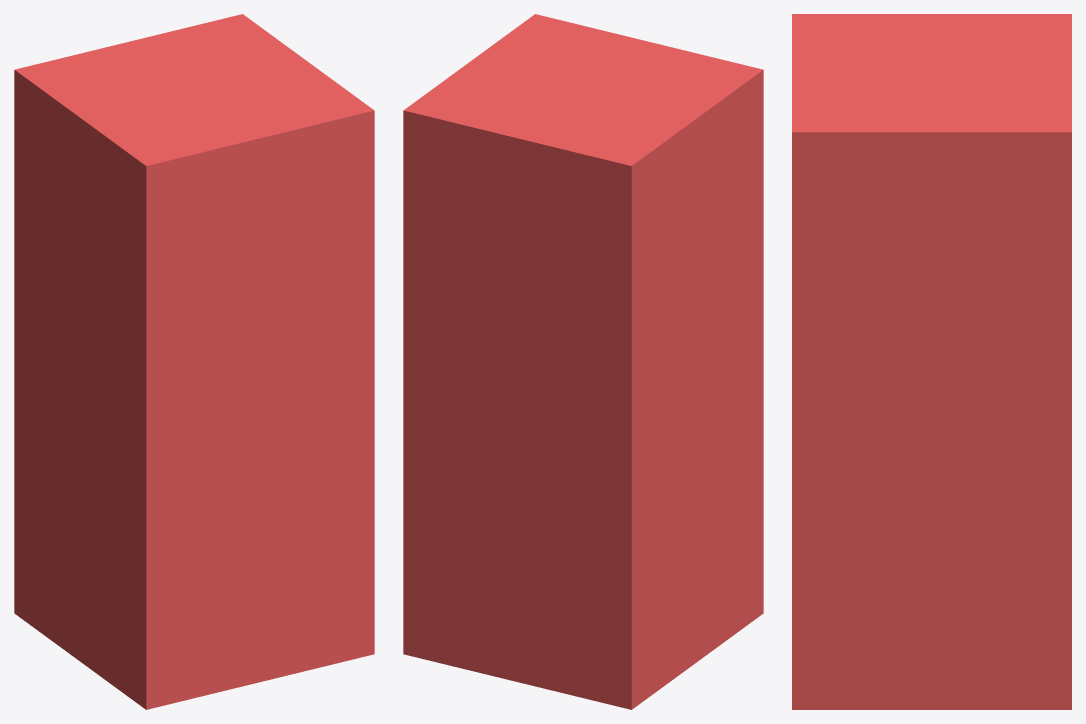
The model's file is practice_D.dae.
3 views of the same model, side by side, from view 1: azimuth 30°, elevation 25°; view 2: azimuth 150°, elevation 25°; view 3: azimuth 270°, elevation 25° (orthographic). The views are drawn at different scales.
Parts seen in each view (by area): view 1: group_0; view 2: group_0; view 3: group_0.
Part boxes in pixels (box(x1,y1,x2,y2)): group_0: box(14, 14, 374, 709); group_0: box(403, 14, 763, 709); group_0: box(792, 14, 1071, 709).
Bounding box in the file's own units: 39 × 39 × 88.8.
